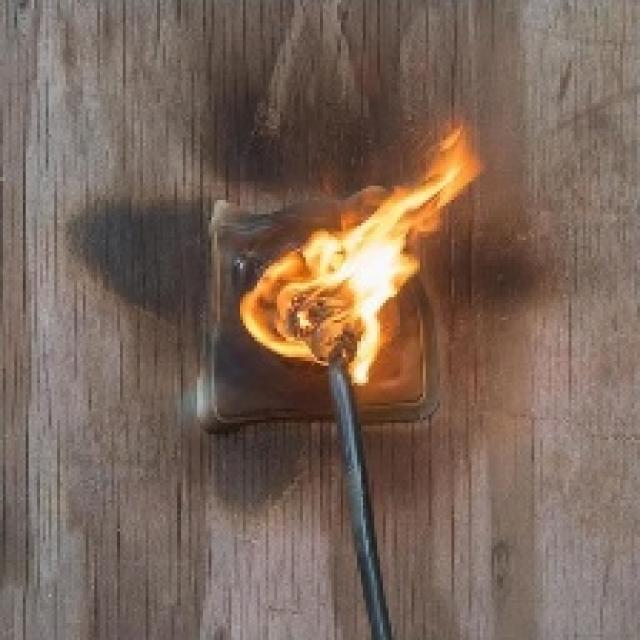fire: (243, 232, 404, 382)
